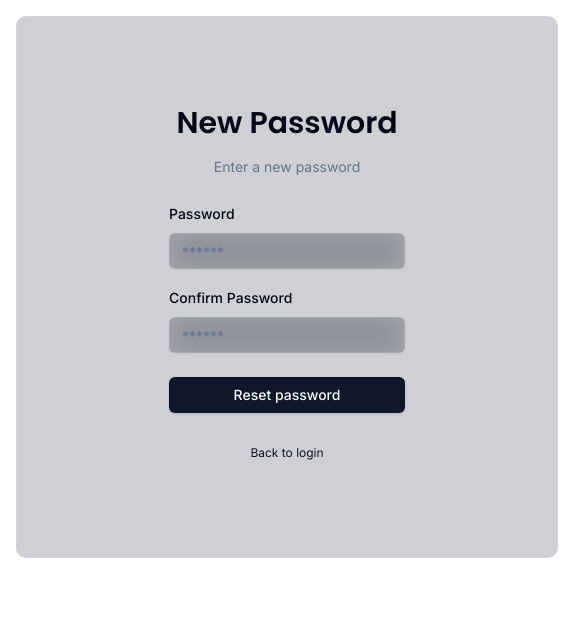
Test case: NewPasswordPageView Component › validates minimum password length
Type "short" into the password field labelled "Password" at (287, 251), box [169,233,405,269]
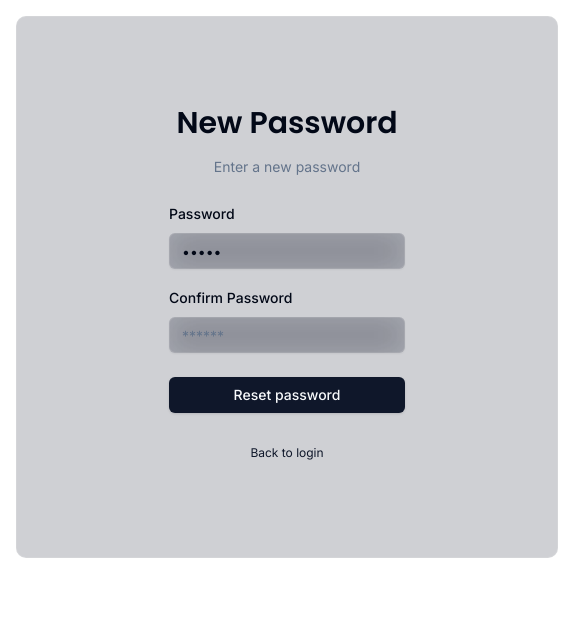
Click the button "Reset password" at (287, 395), box [169,377,405,413]
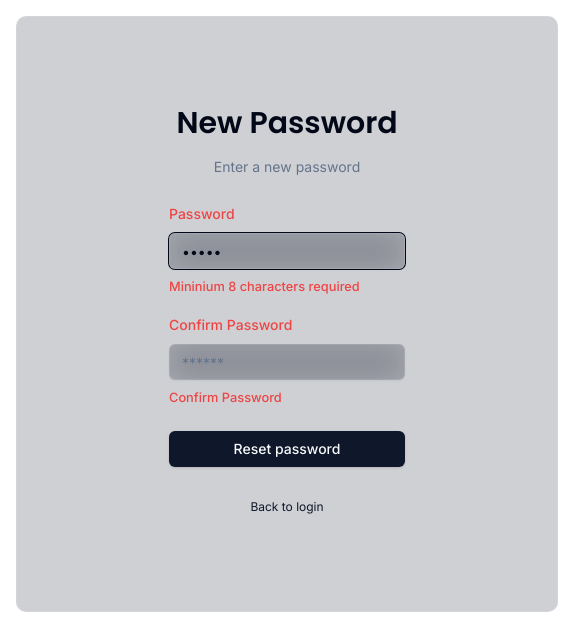
Now the text "Mininium 8 characters required" is shown, box [169,279,360,294]
